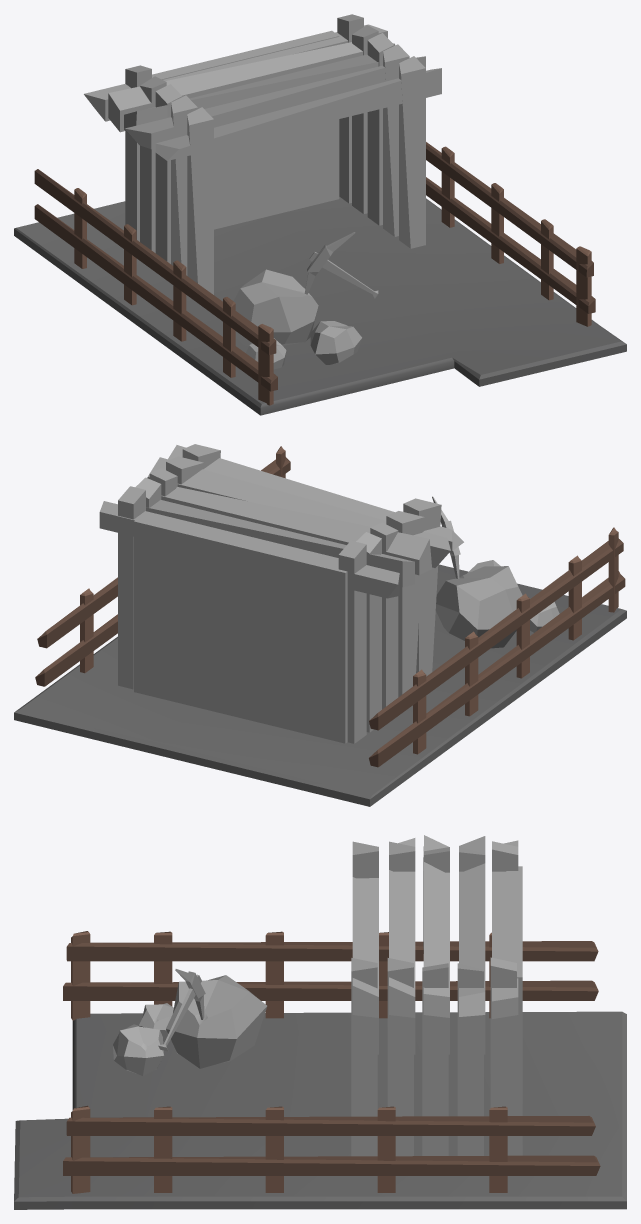
The model's file is mine.fbx.
3 renders of one model, top to bottom at view 1: azimuth 30°, elevation 25°; view 2: azimuth 150°, elevation 25°; view 3: azimuth 270°, elevation 25°, orthographic. The views are drawn at different scales.
Visible parts, largest first — view 1: polySurface15; view 2: polySurface15; view 3: polySurface15.
Part boxes in pixels (x1=…): polySurface15: x1=14, y1=14, x2=626, y2=415; polySurface15: x1=14, y1=444, x2=626, y2=806; polySurface15: x1=14, y1=835, x2=626, y2=1209.
Size of the model in its own units: 3.98 by 2.14 by 5.5.
